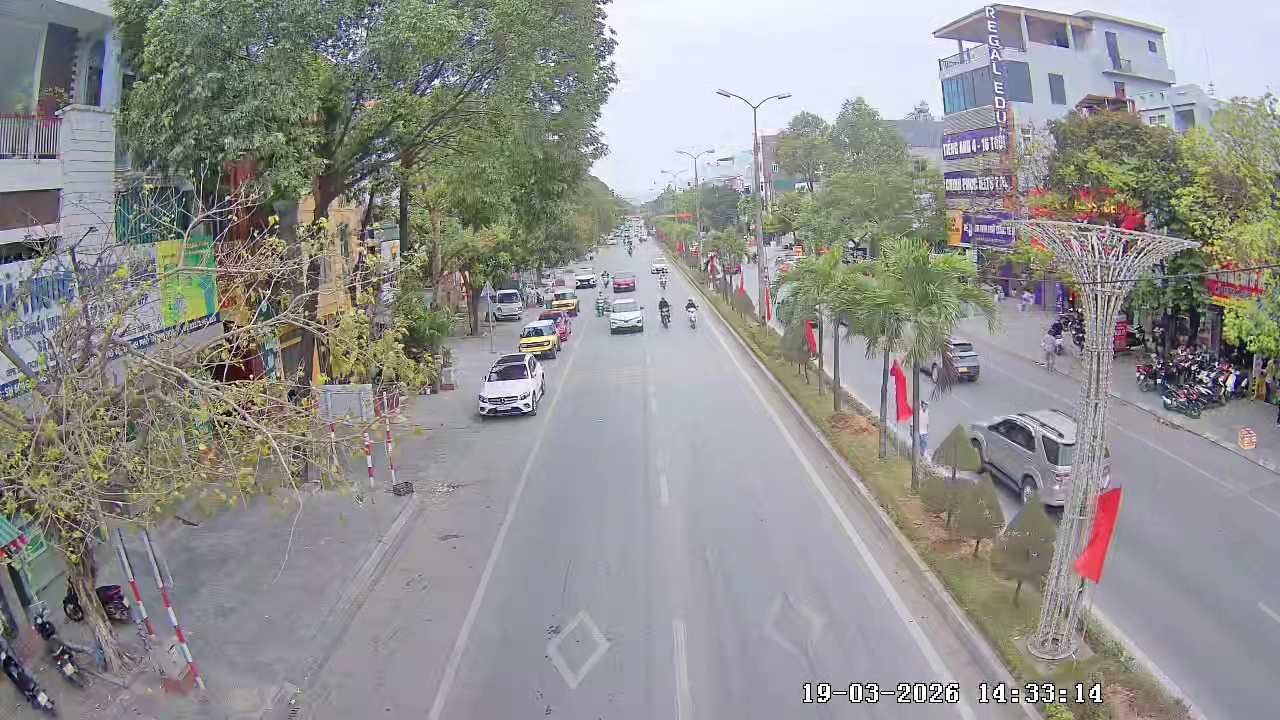car: (968, 409, 1093, 507), (474, 352, 546, 419), (517, 316, 561, 361), (608, 298, 645, 336), (551, 283, 580, 315), (611, 268, 637, 293)
motorbike: (657, 297, 673, 330), (683, 298, 698, 331)
